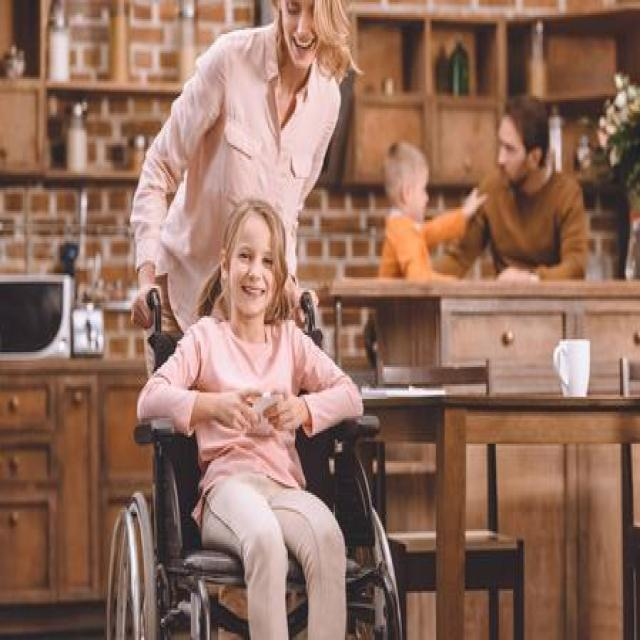wheelchairs: (95, 281, 411, 640)
